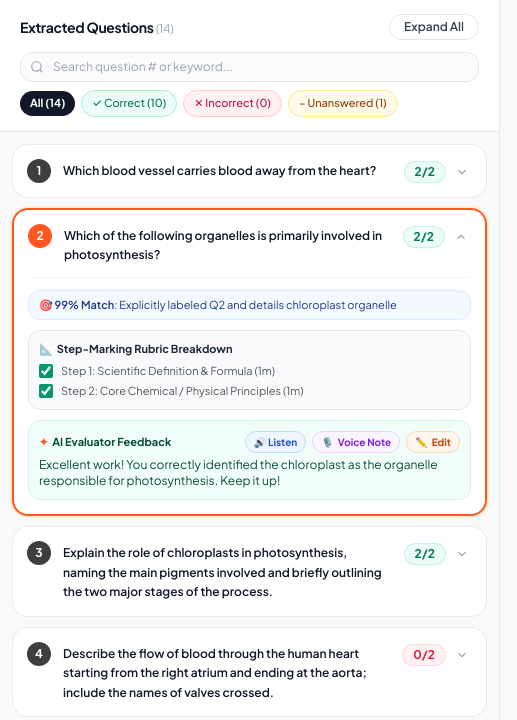
it: UI Components Unit Tests › QuestionList › filters questions by search query
The image size is (517, 720).
In the field with placeholder "Search question # or keyword...": (250, 67) [20,52,479,82], type "photosynthesis"
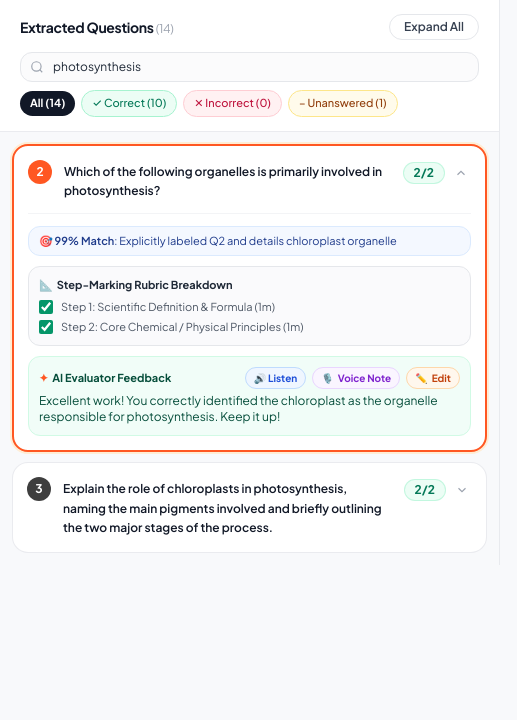
Expected: the text "organelles is primarily involved in photosynthesis" is shown, [64,164,382,198]
Now the text "flow of blood through the human heart" is gone
